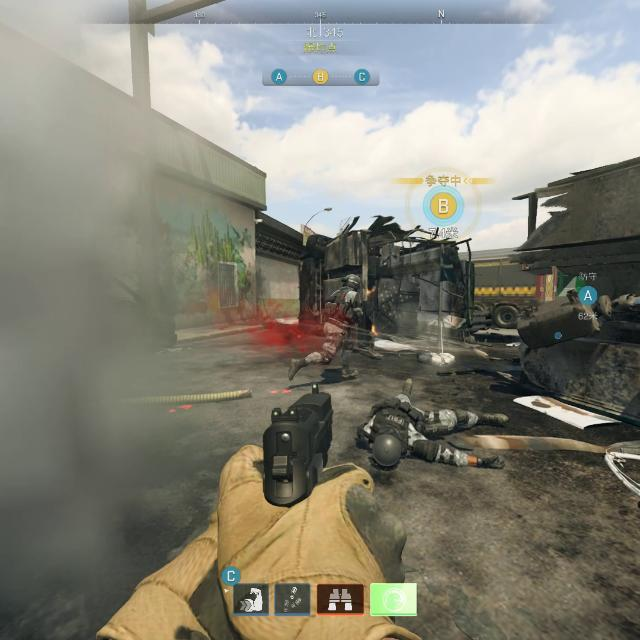MW2_body: (288, 274, 362, 381)
